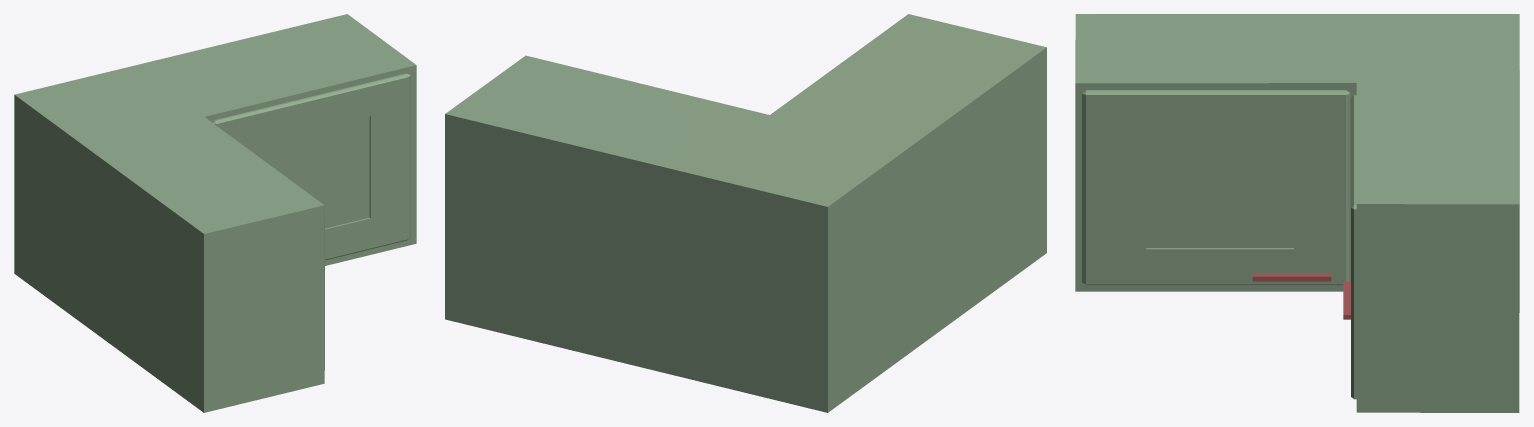
File: CupBoard_Angle.fbx
3 renders of one model, left to right at view 1: azimuth 30°, elevation 25°; view 2: azimuth 150°, elevation 25°; view 3: azimuth 270°, elevation 25°, orthographic. The views are drawn at different scales.
Parts seen in each view (by area): view 1: pasted__pasted__pasted__pasted__pasted__pasted__pCube2, pasted__pasted__pasted__pasted__pasted__pasted__pasted__past; view 2: pasted__pasted__pasted__pasted__pasted__pasted__pCube2; view 3: pasted__pasted__pasted__pasted__pasted__pasted__pCube2, pasted__pasted__pasted__pasted__pasted__pasted__pasted__past (×3).
Boxes of the visible parts, x1,y1,x2,y2 form: pasted__pasted__pasted__pasted__pasted__pasted__pCube2: (14,14,416,412); pasted__pasted__pasted__pasted__pasted__pasted__pasted__past: (212,73,410,260); pasted__pasted__pasted__pasted__pasted__pasted__pCube2: (445,14,1046,412); pasted__pasted__pasted__pasted__pasted__pasted__pCube2: (1075,14,1519,412); pasted__pasted__pasted__pasted__pasted__pasted__pasted__past (×3): (1082,90,1356,399).
Size of the model in its own units: 7.94 by 4.08 by 7.84.
